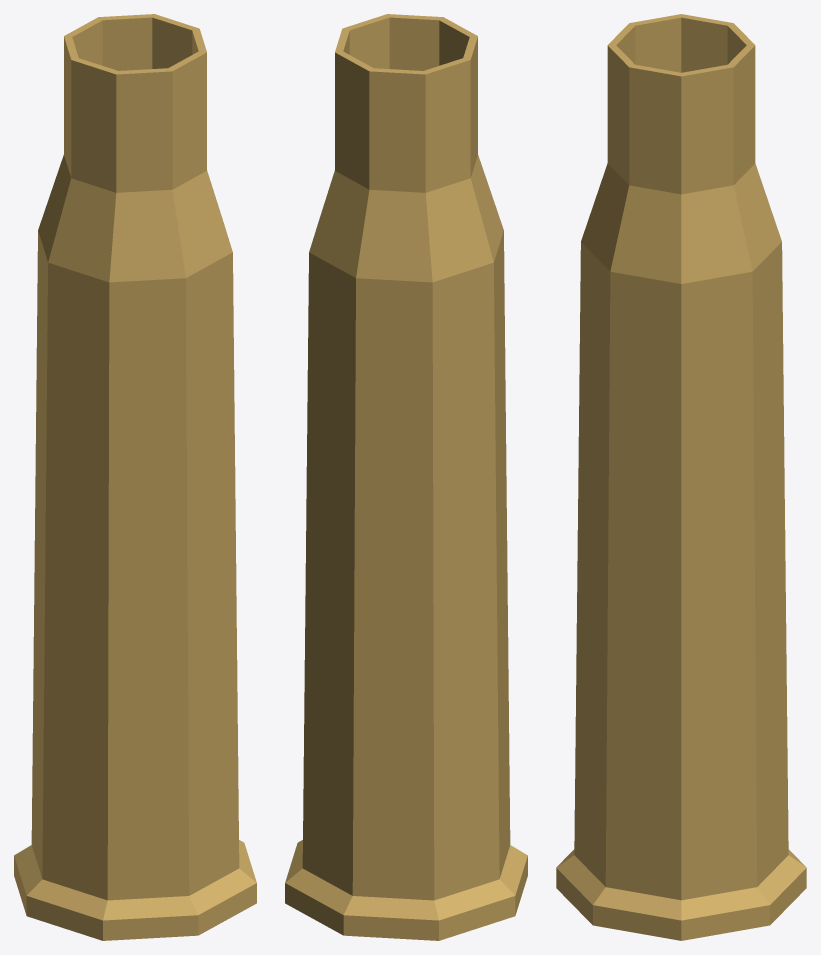
File: case_762x54R.glb
3 renders of one model, left to right at view 1: azimuth 30°, elevation 25°; view 2: azimuth 150°, elevation 25°; view 3: azimuth 270°, elevation 25°, orthographic.
Parts seen in each view (by area): view 1: case_762x54R; view 2: case_762x54R; view 3: case_762x54R.
Boxes of the visible parts, box(x1,y1,x2,y2) form: case_762x54R: box(14, 14, 256, 940); case_762x54R: box(285, 14, 527, 940); case_762x54R: box(556, 14, 806, 940).
Size of the model in its own units: 0.0145 by 0.0537 by 0.0145.
